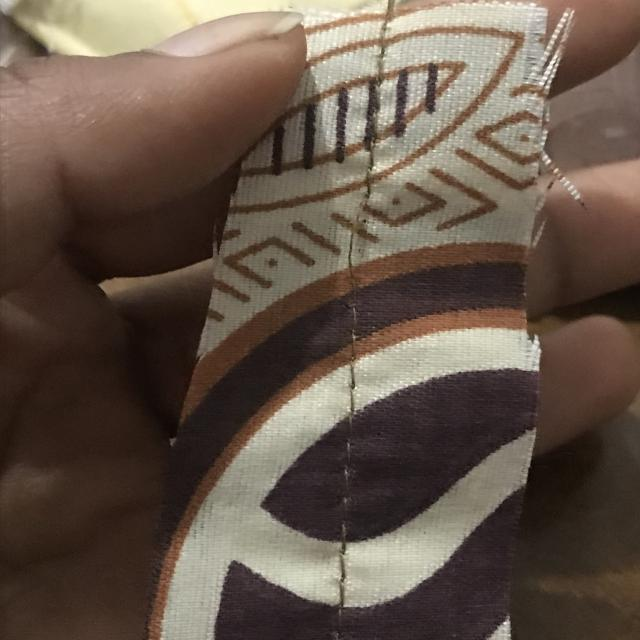skip: (344, 172, 385, 325)
